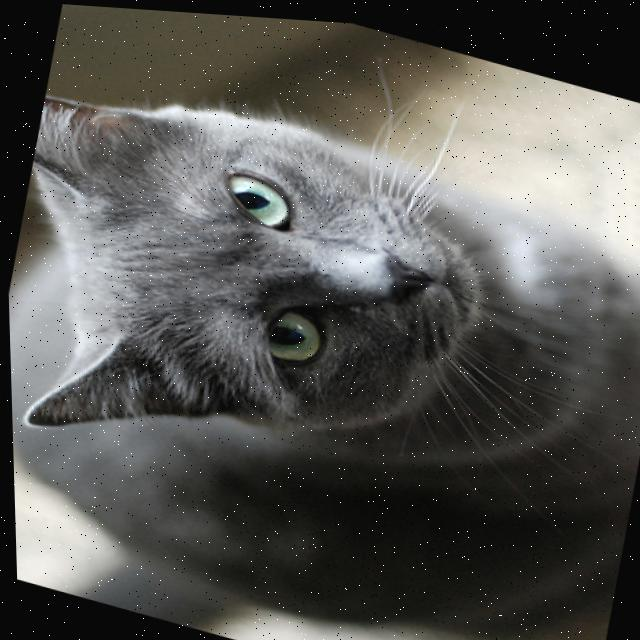Russian Blue: (1, 54, 640, 640)
